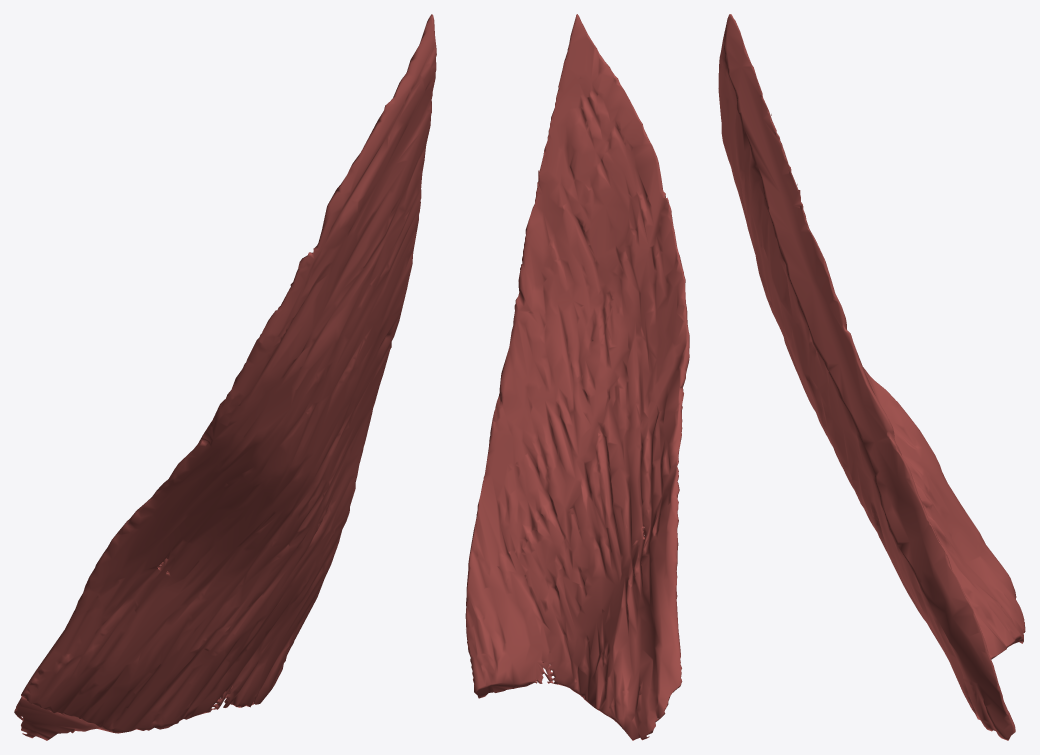
The model's file is FMA22346.glb.
3 renders of one model, left to right at view 1: azimuth 30°, elevation 25°; view 2: azimuth 150°, elevation 25°; view 3: azimuth 270°, elevation 25°, orthographic. The views are drawn at different scales.
Parts seen in each view (by area): view 1: FMA22346; view 2: FMA22346; view 3: FMA22346.
Part boxes in pixels (left/top/right/bottom): FMA22346: left=14, top=14, right=436, bottom=740; FMA22346: left=465, top=14, right=689, bottom=740; FMA22346: left=718, top=14, right=1025, bottom=740.
Bounding box in the file's own units: 0.027 × 0.0693 × 0.0262.
